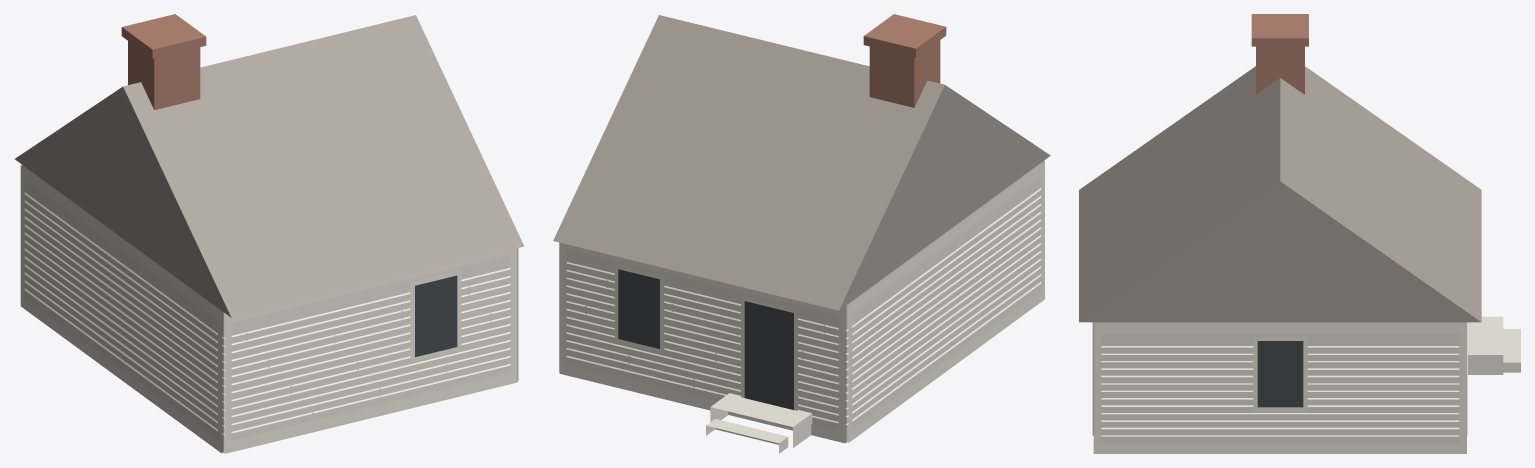
Rendered from recon_1835_blk_south_water_dearborn_d3_03__inferred_1835.glb.
3 renders of one model, left to right at view 1: azimuth 30°, elevation 25°; view 2: azimuth 150°, elevation 25°; view 3: azimuth 270°, elevation 25°, orthographic. The views are drawn at different scales.
Parts seen in each view (by area): view 1: recon_1835_blk_south_water_dearborn_d3_03__inferred_1835; view 2: recon_1835_blk_south_water_dearborn_d3_03__inferred_1835; view 3: recon_1835_blk_south_water_dearborn_d3_03__inferred_1835.
Part boxes in pixels (box(x1,y1,x2,y2)): recon_1835_blk_south_water_dearborn_d3_03__inferred_1835: box(15, 14, 524, 453); recon_1835_blk_south_water_dearborn_d3_03__inferred_1835: box(553, 14, 1050, 453); recon_1835_blk_south_water_dearborn_d3_03__inferred_1835: box(1079, 14, 1520, 453).
Bounding box in the file's own units: 5.44 × 5.91 × 7.55.
